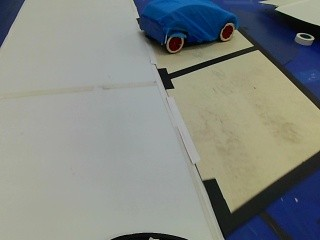car: (134, 0, 242, 54)
